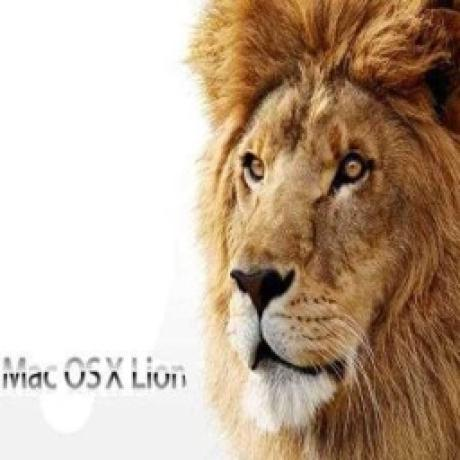Lion: (185, 0, 460, 460)
